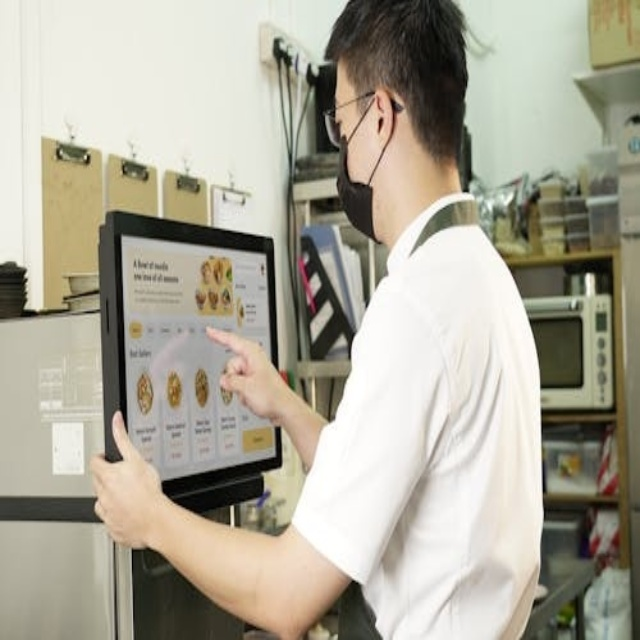Gafas: (323, 89, 404, 148)
Mascara: (336, 123, 382, 243)
Sin_guantes: (88, 411, 163, 550), (201, 313, 291, 427)
